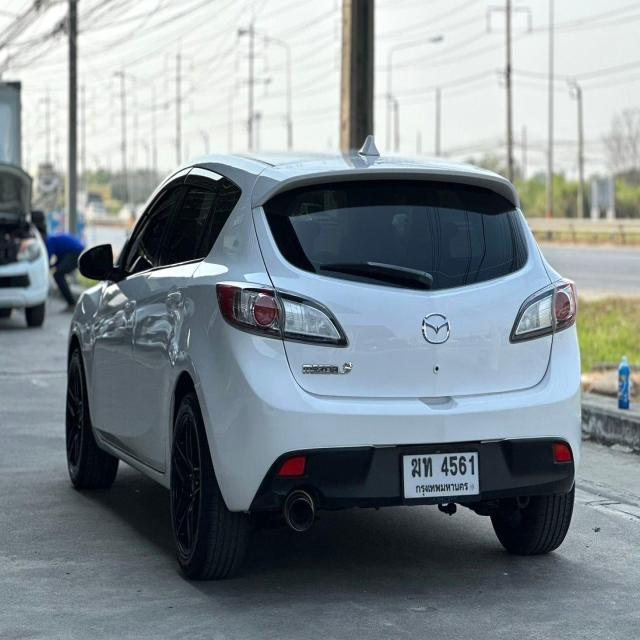Hatchback: (66, 138, 580, 579)
